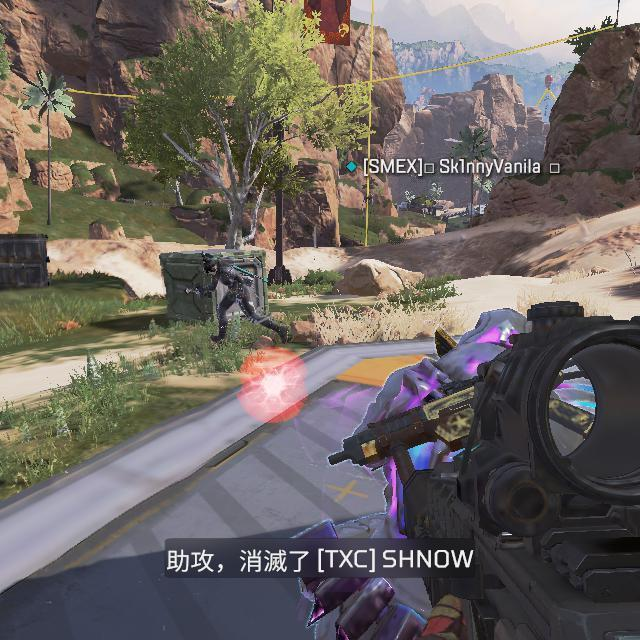avatar: (202, 253, 254, 348)
object: (237, 345, 308, 425)
